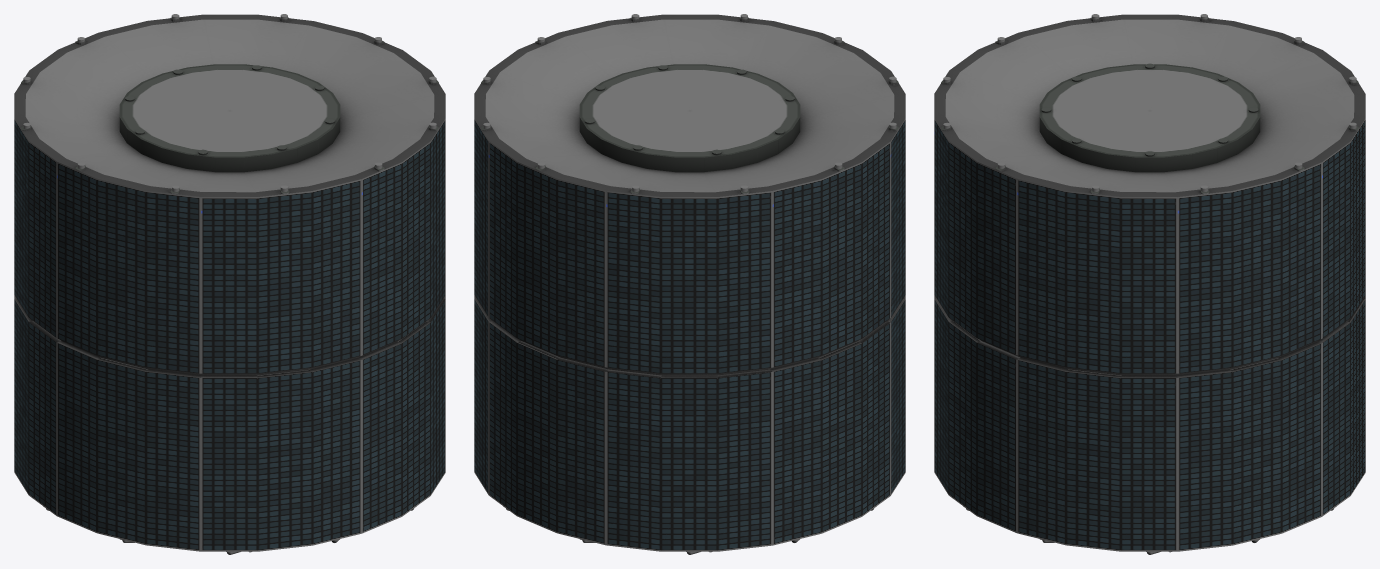
Rendered from HS-306_recovered.obj.
3 views of the same model, side by side, from view 1: azimuth 30°, elevation 25°; view 2: azimuth 150°, elevation 25°; view 3: azimuth 270°, elevation 25° (orthographic).
Visible parts, largest first — view 1: Body_Cylinder.002; view 2: Body_Cylinder.002; view 3: Body_Cylinder.002.
Part boxes in pixels (x1,y1,x2,y2): Body_Cylinder.002: [14, 14, 445, 551]; Body_Cylinder.002: [474, 14, 905, 551]; Body_Cylinder.002: [934, 14, 1365, 551].
Size of the model in its own units: 0.9215 by 0.9376 by 0.9215.
Materials: 1 (1 with a texture image).
